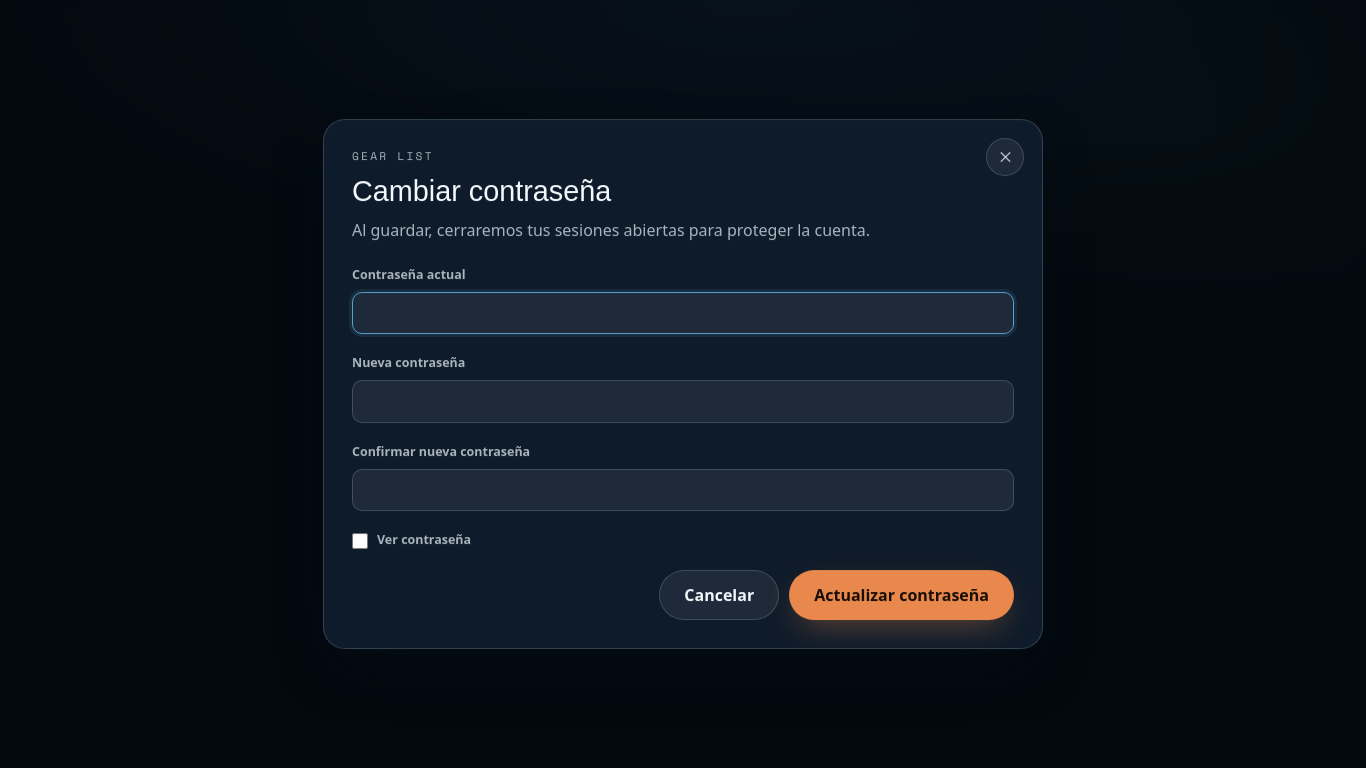
Test: ChangePasswordForm › does not submit when the confirmation is different
Type "ValidPass123" into the password field labelled "Contraseña actual" at (683, 313), box [352, 292, 1014, 334]
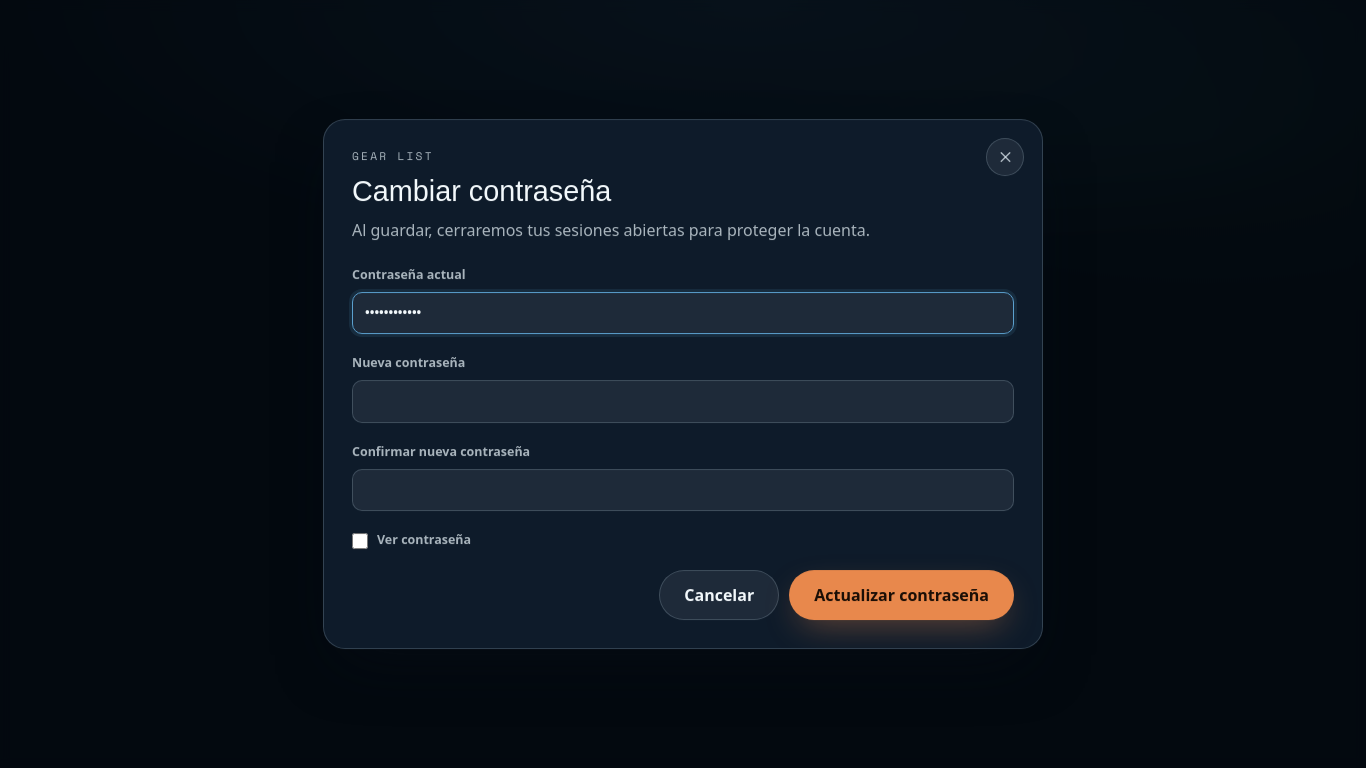
Type "NewValidPass456" into the password field labelled "Nueva contraseña" at (683, 401), box [352, 380, 1014, 423]
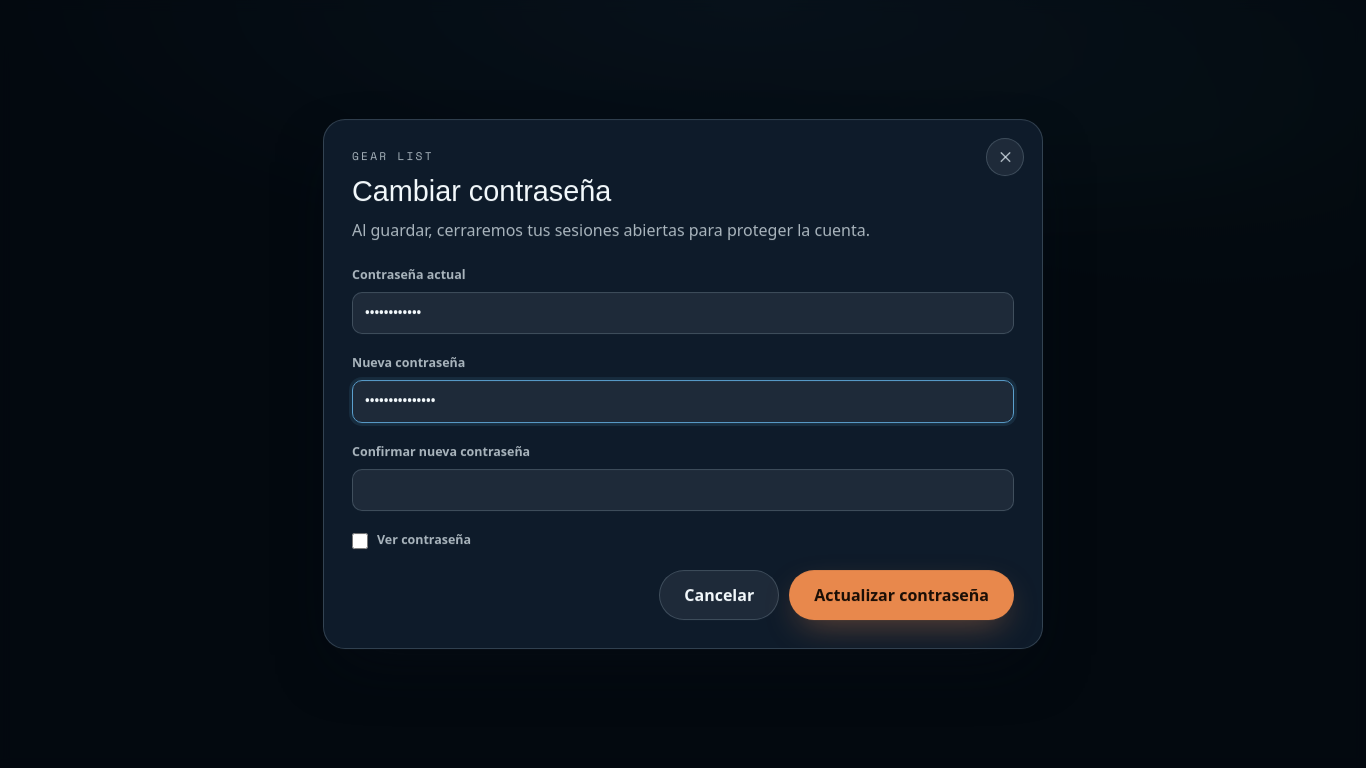
Type "DifferentPass789" into the password field labelled "Confirmar nueva contraseña" at (683, 490), box [352, 469, 1014, 511]
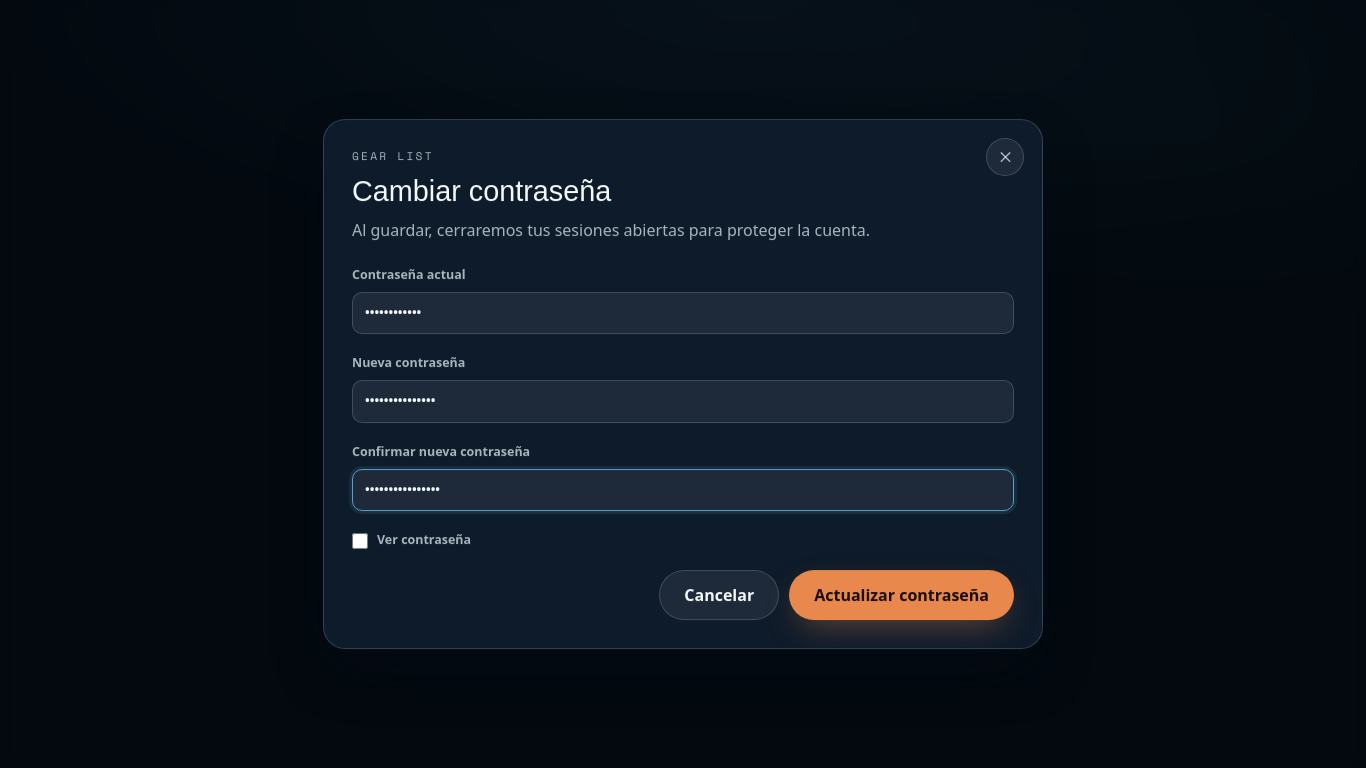
Click the button "Actualizar contraseña" at (902, 595), box [789, 570, 1014, 620]
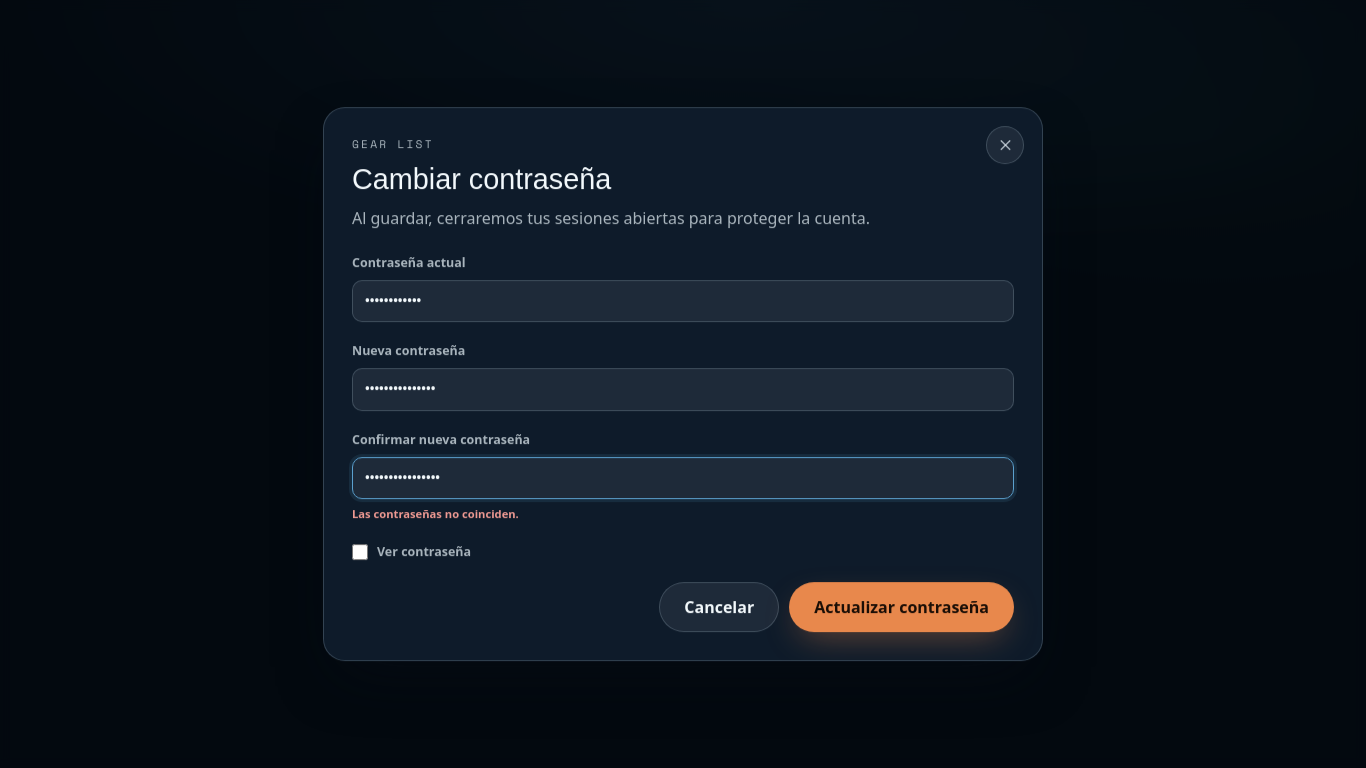
Expected: the text "Las contraseñas no coinciden." is shown, [352, 506, 519, 521]
